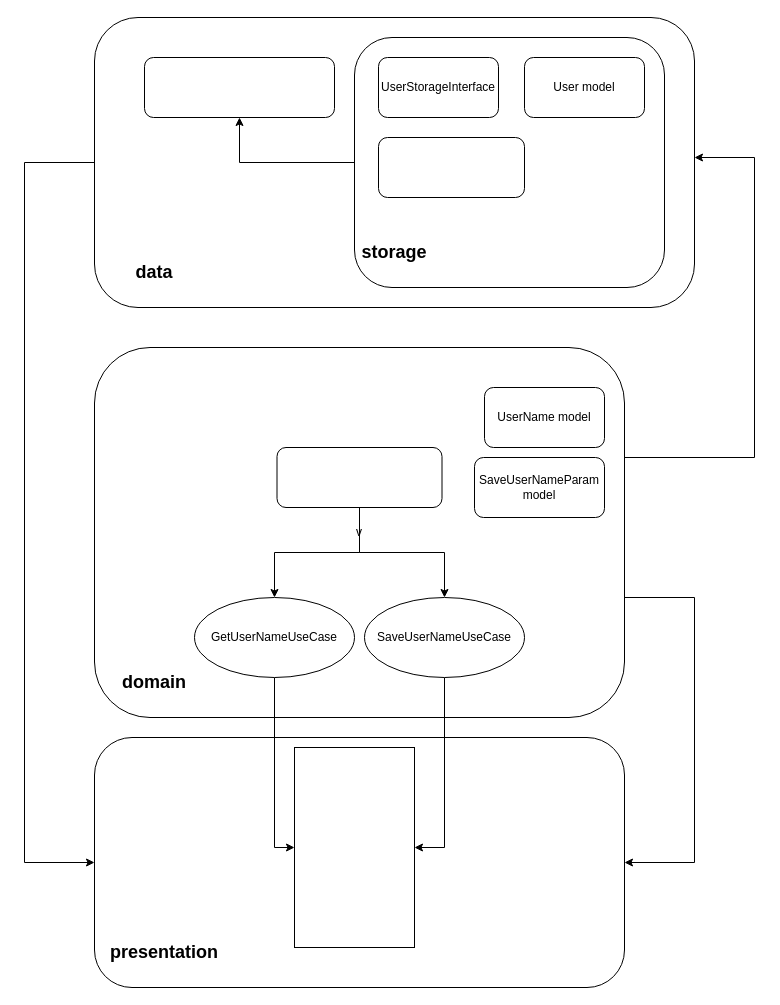
Image size: 780x1005. Some labels were removed from this diagram. Here are the shapes that lost their labels. From the top down, the centre of each, then its label:
At (x=239, y=87): "UserRepositoryImpl - implementation".
At (x=451, y=167): "SharedPrefsUserStorege - Implamantation".
At (x=359, y=477): "UserRepositoryInterface".
At (x=354, y=847): "MainActivity".
